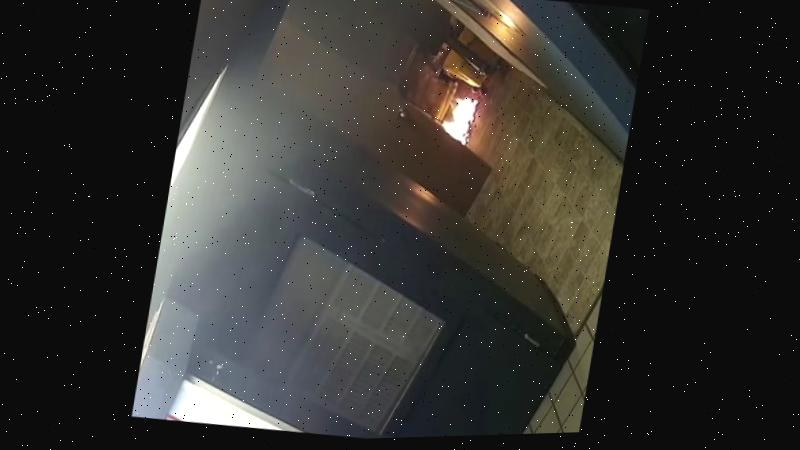fire: (412, 64, 496, 154)
